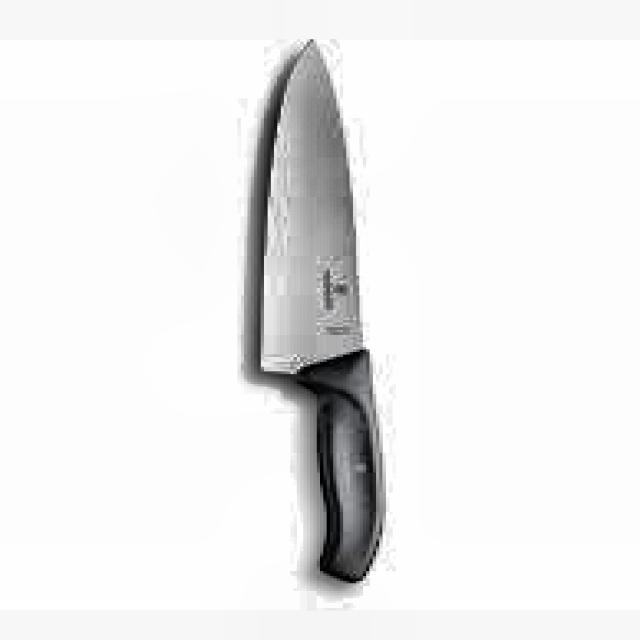knife: (259, 39, 389, 584)
